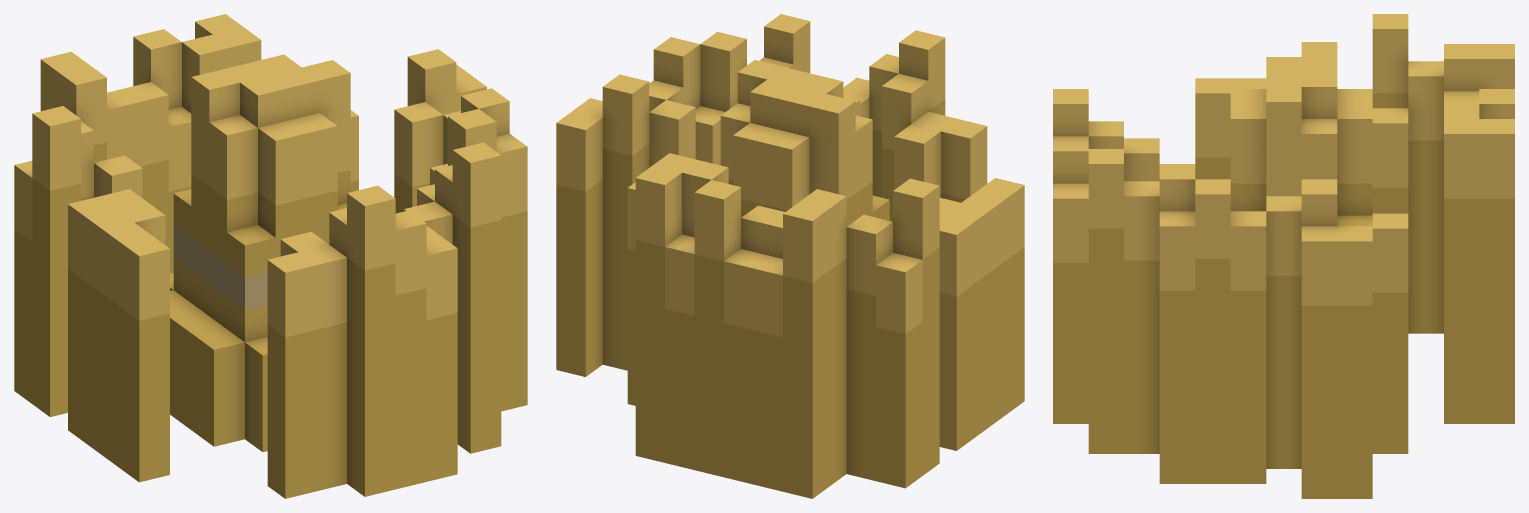
File: r_wheat.glb
The picture shows the model from 3 angles, left to right: view 1: azimuth 30°, elevation 25°; view 2: azimuth 150°, elevation 25°; view 3: azimuth 270°, elevation 25°; orthographic projection. The views are drawn at different scales.
Visible parts, largest first — view 1: r_wheat_body; view 2: r_wheat_body; view 3: r_wheat_body.
Part boxes in pixels (x1,y1,x2,y2): r_wheat_body: [14, 14, 527, 498]; r_wheat_body: [556, 14, 1024, 498]; r_wheat_body: [1053, 14, 1514, 498].
Size of the model in its own units: 0.8125 by 0.625 by 0.8125.
1 material, 1 textured.
